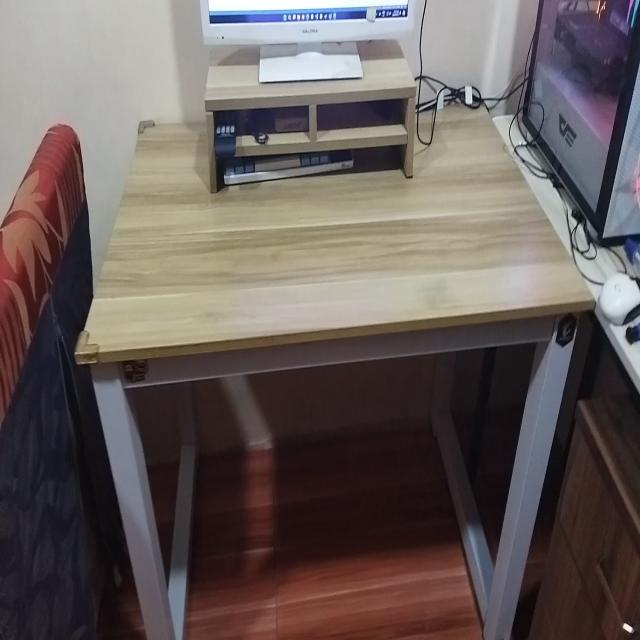table: (85, 110, 581, 640)
